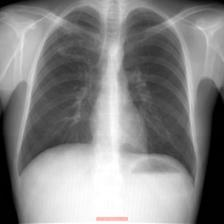tuberculosis: (13, 2, 198, 186)
